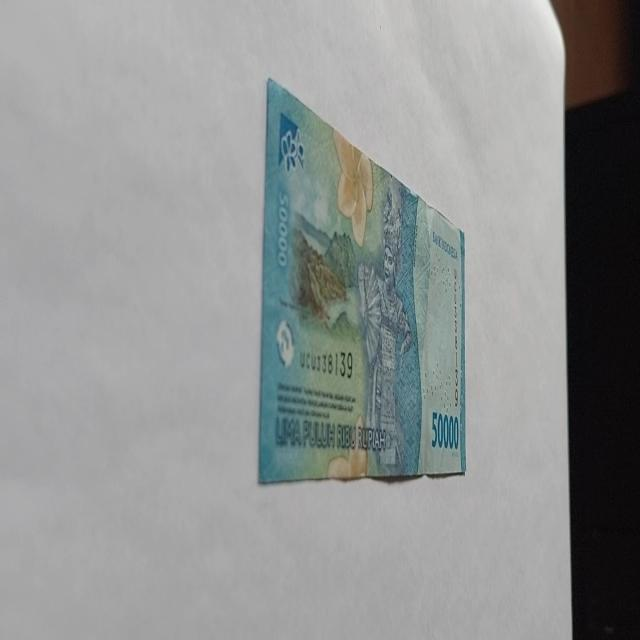lima puluh ribu rupiah: (257, 76, 467, 486)
